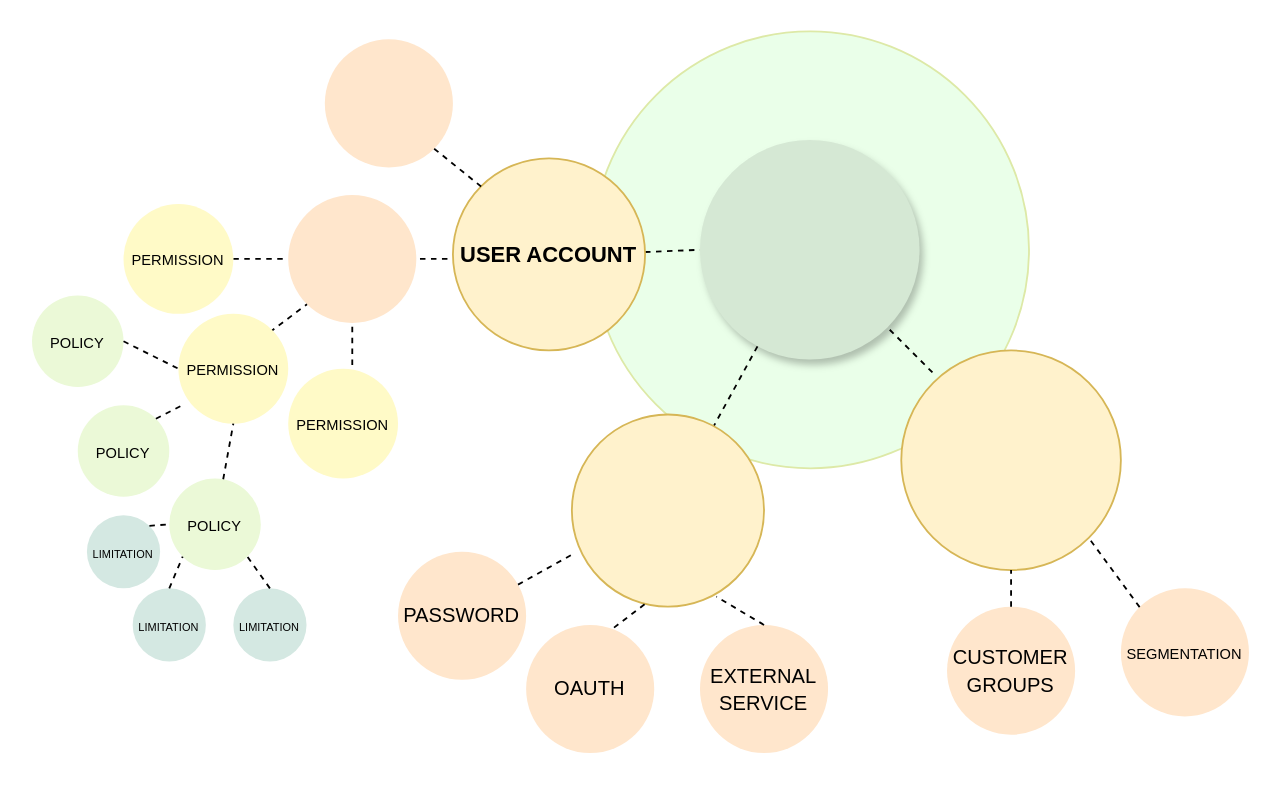
This 1279x785 diagram has some shape labels left out. Here are the shapes that lost their labels. From the top down, the centre of each, then its label:
At [388,102]: "INVITATIONS".
At [351,258]: "ROLE".
At [811,251]: "USER MANAGEMENT".
At [1010,459]: "PERSONALIZATION".
At [667,510]: "AUTHENTICATION".
